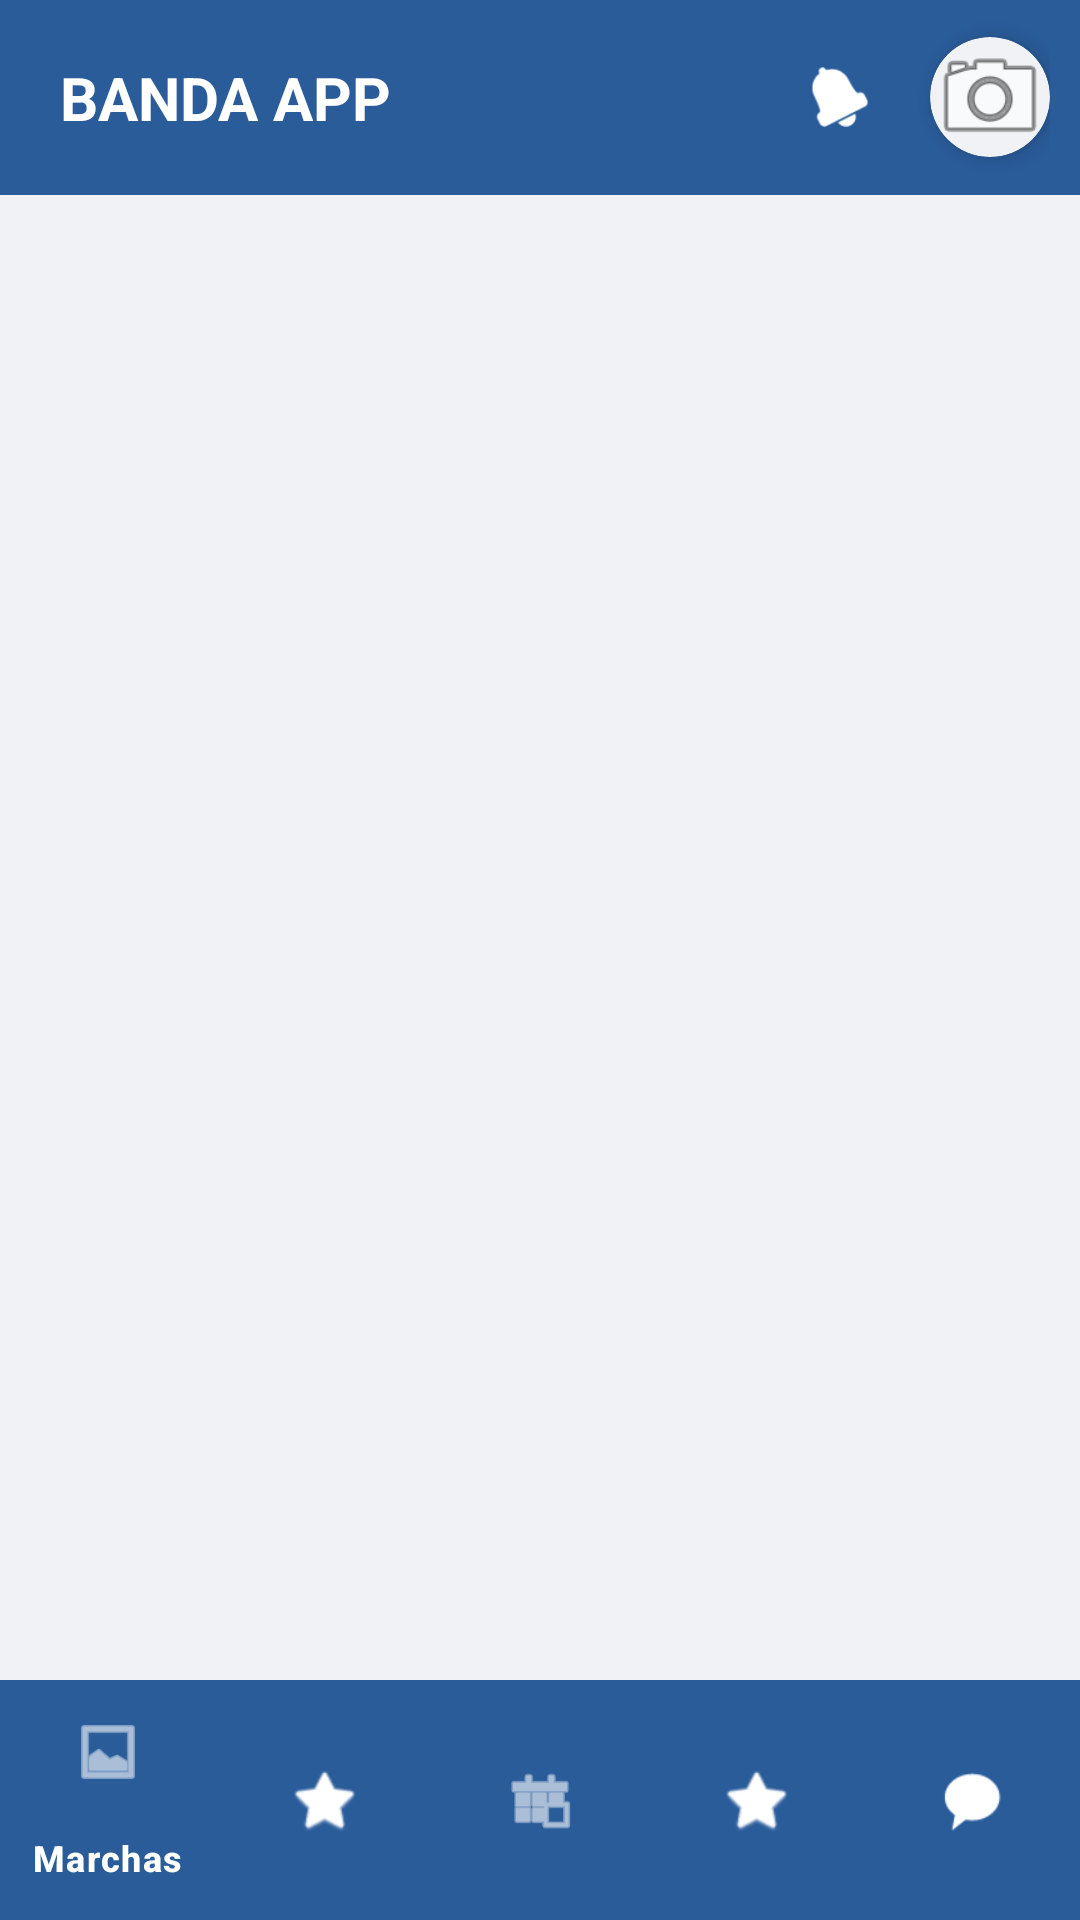

Locate icon controls on the screen. Image size 1080px x 1920px, boxes as (x1, y1, x2, y2).
Foto del musico: (930, 37, 1050, 157)
Notificaciones: (812, 67, 868, 127)
